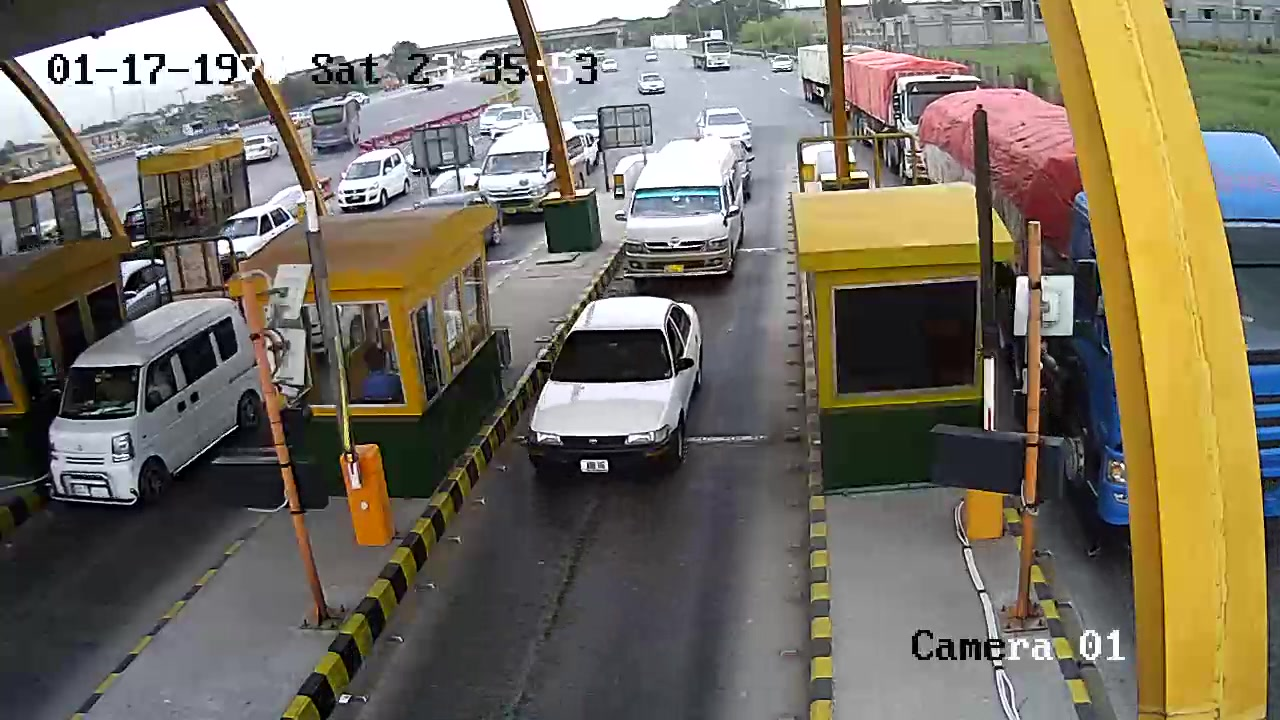F1: (520, 295, 730, 488)
F2: (621, 137, 748, 289)
